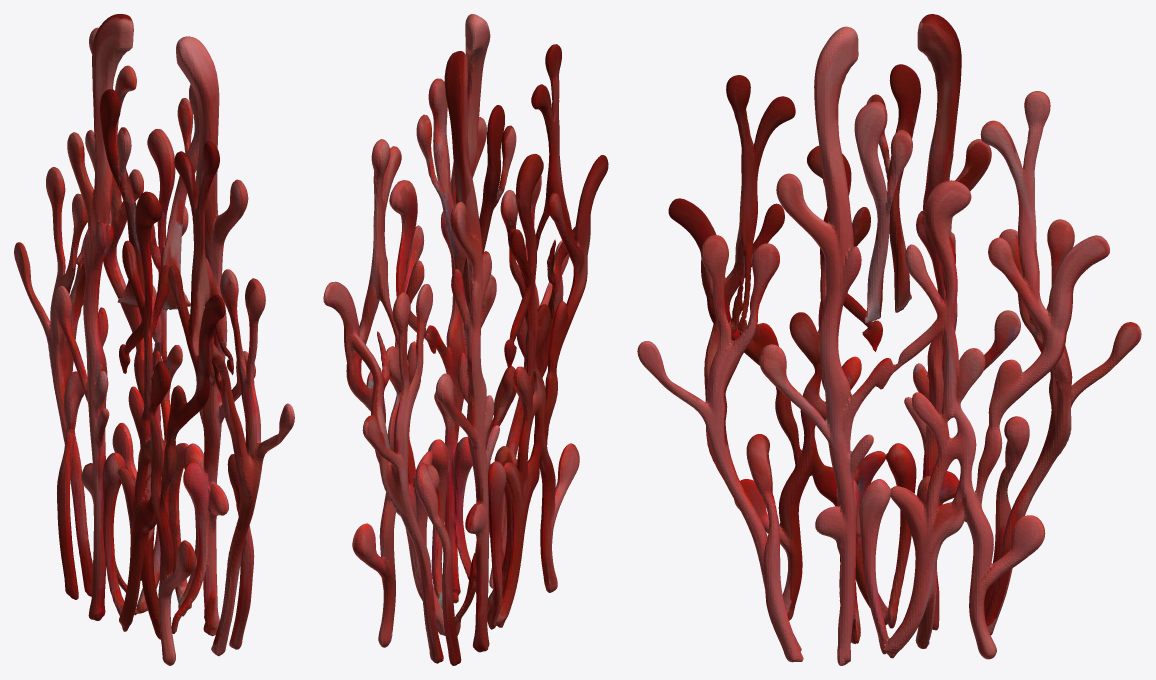
Rendered from tripo_convert_c88b1a3c-536b-447d-9a1b-9ef8353f5b58.glb.
3 renders of one model, left to right at view 1: azimuth 30°, elevation 25°; view 2: azimuth 150°, elevation 25°; view 3: azimuth 270°, elevation 25°, orthographic. The views are drawn at different scales.
Parts seen in each view (by area): view 1: tripo_node_c88b1a3c-536b-447d-9a1b-9ef8353f5b58; view 2: tripo_node_c88b1a3c-536b-447d-9a1b-9ef8353f5b58; view 3: tripo_node_c88b1a3c-536b-447d-9a1b-9ef8353f5b58.
Boxes of the visible parts, <box> form: tripo_node_c88b1a3c-536b-447d-9a1b-9ef8353f5b58: <box>14,14,294,665</box>; tripo_node_c88b1a3c-536b-447d-9a1b-9ef8353f5b58: <box>323,14,608,665</box>; tripo_node_c88b1a3c-536b-447d-9a1b-9ef8353f5b58: <box>637,14,1141,665</box>.
Size of the model in its own units: 0.1541 by 1 by 0.7285.
1 material, 1 textured.
